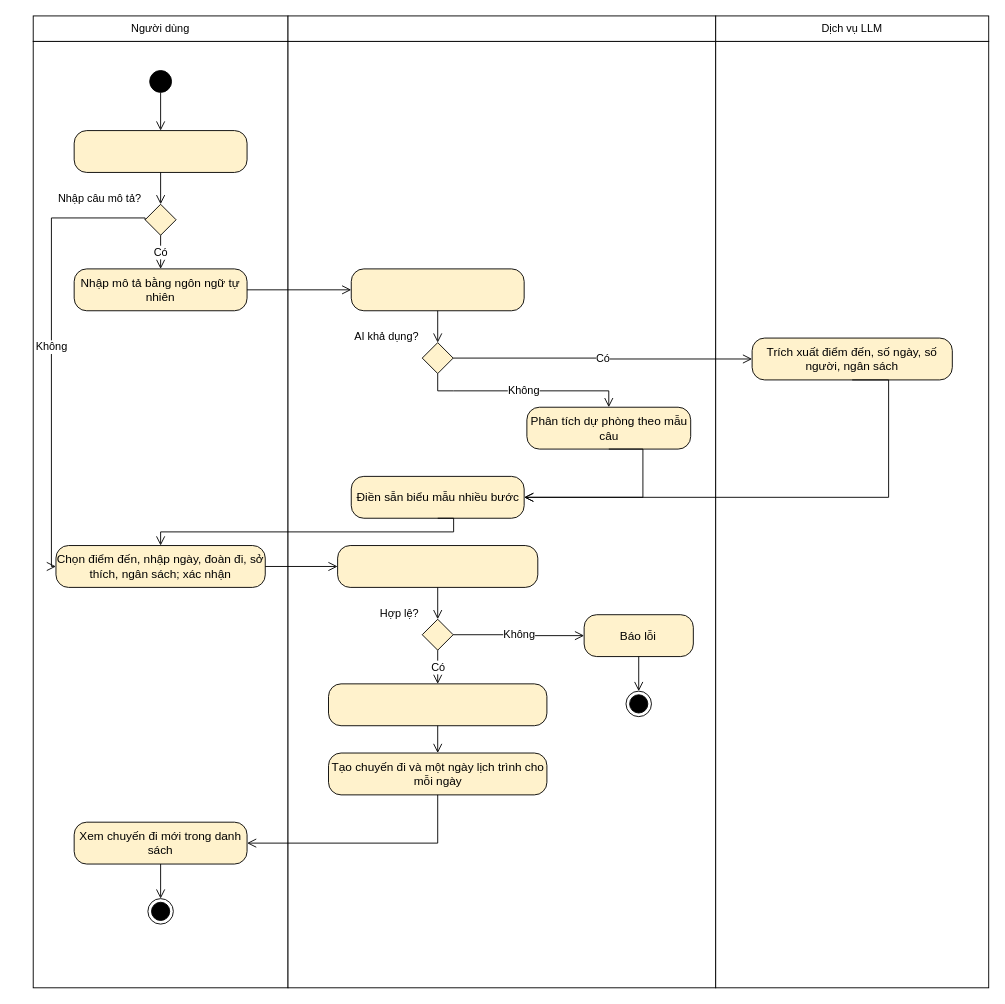
The diagram is 1005 pixels wide and 1004 high, and some of its shapes have lost their labels. Here are the shapes that lost their labels. From the top down, the centre of each, then its label:
At (501,28): "Hệ thống".
At (160,151): "Chọn tạo chuyến đi mới".
At (437,289): "Kiểm tra giới hạn lượt dùng AI".
At (437,566): "Kiểm tra ngày, độ dài ≤ 30 ngày, thành phần đoàn".
At (437,704): "Xác định điểm đến (danh mục, Google Places hoặc nhập tay)".
